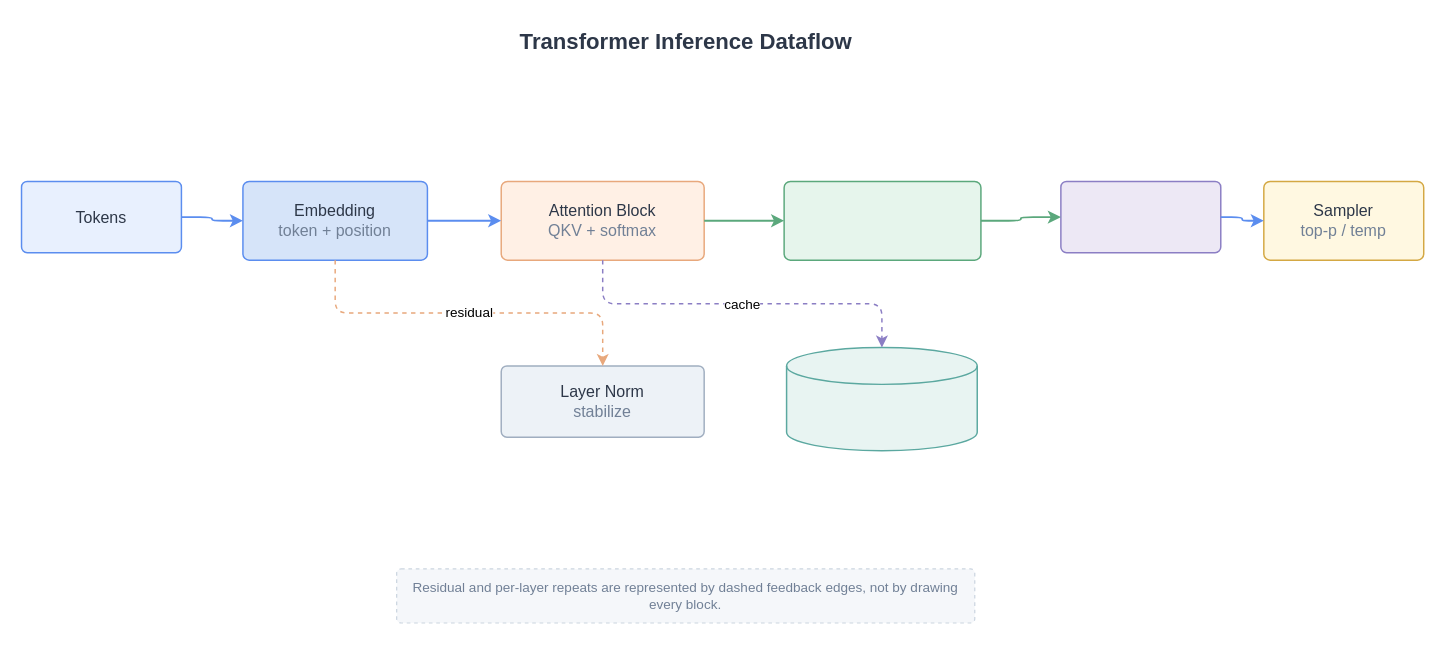
The diagram is 1446 pixels wide and 645 high, and some of its shapes have lost their labels. The centre of each missing label's shape, as x and y in pixels:
KV Cache reuse past states: point 881,398
Logits: point 1140,216
MLP Block gate + projection: point 882,220
